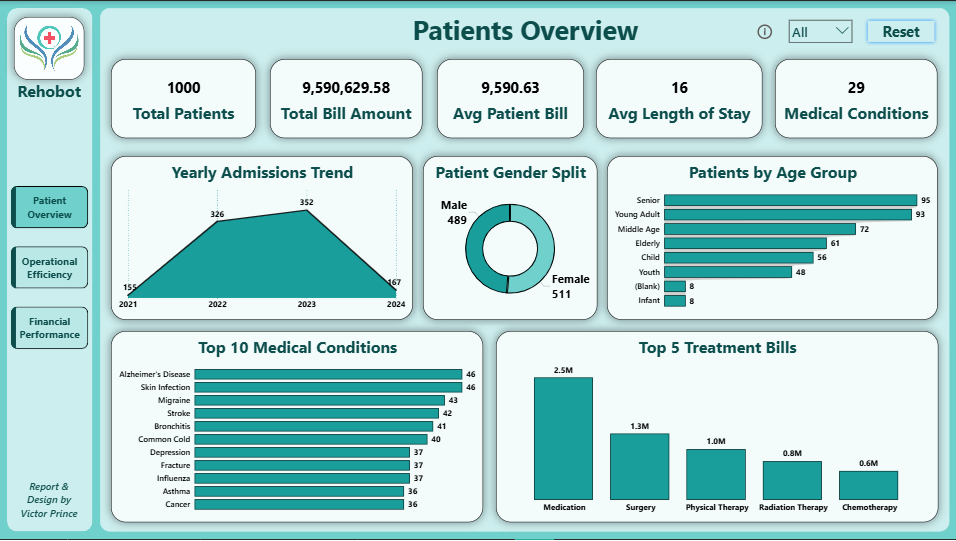

This screenshot's page, from the dashboard's own definition file:
{"tool":"powerbi","page":{"name":"Patient Overview","canvas":[1920,1080],"ordinal":0},"visuals":[{"type":"shape","title":"Patients Overview","box":[200.3,14.5,1705.3,1050.8],"z":0},{"type":"shape","box":[14.5,14.5,171.7,1051],"z":1000},{"type":"card","fields":{"Values":["_Measures.Total Patients"]},"box":[223,115.6,291.1,159],"z":2000},{"type":"card","fields":{"Values":["_Measures.Total Bill Amount"]},"box":[543,115.6,305.5,159],"z":3000},{"type":"card","fields":{"Values":["_Measures.Avg Length of Stay"]},"box":[1197.4,115.6,334.5,159],"z":4000},{"type":"card","fields":{"Values":["Count(Hospital_Records_Clean.Medical_Condition)"]},"box":[1556.6,115.6,326.2,159],"z":5000},{"type":"card","fields":{"Values":["_Measures.Avg Bill per Patient"]},"box":[877.4,115.6,295.2,159],"z":6000},{"type":"areaChart","title":"Yearly Admissions Trend","fields":{"Category":["Hospital_Records_Clean.Admit_Year"],"Y":["_Measures.Total Patients"]},"box":[223.4,310.3,606.2,329],"z":7000},{"type":"clusteredBarChart","title":"Top 10 Medical Conditions","fields":{"Category":["Hospital_Records_Clean.Medical_Condition"],"Y":["_Measures.Total Patients"]},"box":[223,662.7,747.4,384],"z":8000},{"type":"donutChart","title":"Patient Gender Split","fields":{"Category":["Hospital_Records_Clean.Gender"],"Y":["_Measures.Total Patients"]},"box":[848.3,310.3,349.7,329],"z":9000},{"type":"barChart","title":"Patients by Age Group","fields":{"Category":["Hospital_Records_Clean.Age_Group"],"Y":["_Measures.Total Patients"]},"box":[1218.6,310.3,664.1,329],"z":10000},{"type":"actionButton","box":[1733.8,33.1,149,57.9],"z":11000},{"type":"actionButton","box":[1515.4,41.3,41.3,39.2],"z":12000},{"type":"clusteredColumnChart","title":"Top 5 Treatment Bills","fields":{"Category":["Hospital_Records_Clean.Treatments"],"Y":["_Measures.Total Bill Amount"]},"box":[995.1,662.7,887.7,384],"z":13000},{"type":"image","box":[29,33.1,140.7,126.2],"z":14000},{"type":"pageNavigator","box":[14.5,364.1,171.7,343.4],"z":15000},{"type":"textbox","title":"Rehobot","box":[29,159.3,140.7,70.3],"z":16000},{"type":"textbox","title":"Report & Design by Victor Prince","box":[29,960,140.7,86.9],"z":17000},{"type":"slicer","fields":{"Values":["Hospital_Records_Clean.Admit_Year"]},"box":[1573.2,28.9,146.6,57.8],"z":18000}]}

Visuals, with their boxes in screenshot pixels (x1, y1, x2, y2), scaled from the page's 1920x1080 canvas onto the 956x541 screenshot:
"Patients Overview" shape: (100,7,949,534)
shape: (7,7,93,534)
card - _Measures.Total Patients: (111,58,256,138)
card - _Measures.Total Bill Amount: (270,58,422,138)
card - _Measures.Avg Length of Stay: (596,58,763,138)
card - Count(Hospital_Records_Clean.Medical_Condition): (775,58,937,138)
card - _Measures.Avg Bill per Patient: (437,58,584,138)
"Yearly Admissions Trend" areaChart: (111,155,413,320)
"Top 10 Medical Conditions" clusteredBarChart: (111,332,483,524)
"Patient Gender Split" donutChart: (422,155,597,320)
"Patients by Age Group" barChart: (607,155,937,320)
actionButton: (863,17,937,46)
actionButton: (755,21,775,40)
"Top 5 Treatment Bills" clusteredColumnChart: (495,332,937,524)
image: (14,17,84,80)
pageNavigator: (7,182,93,354)
"Rehobot" textbox: (14,80,84,115)
"Report & Design by Victor Prince" textbox: (14,481,84,524)
slicer - Hospital_Records_Clean.Admit_Year: (783,14,856,43)
